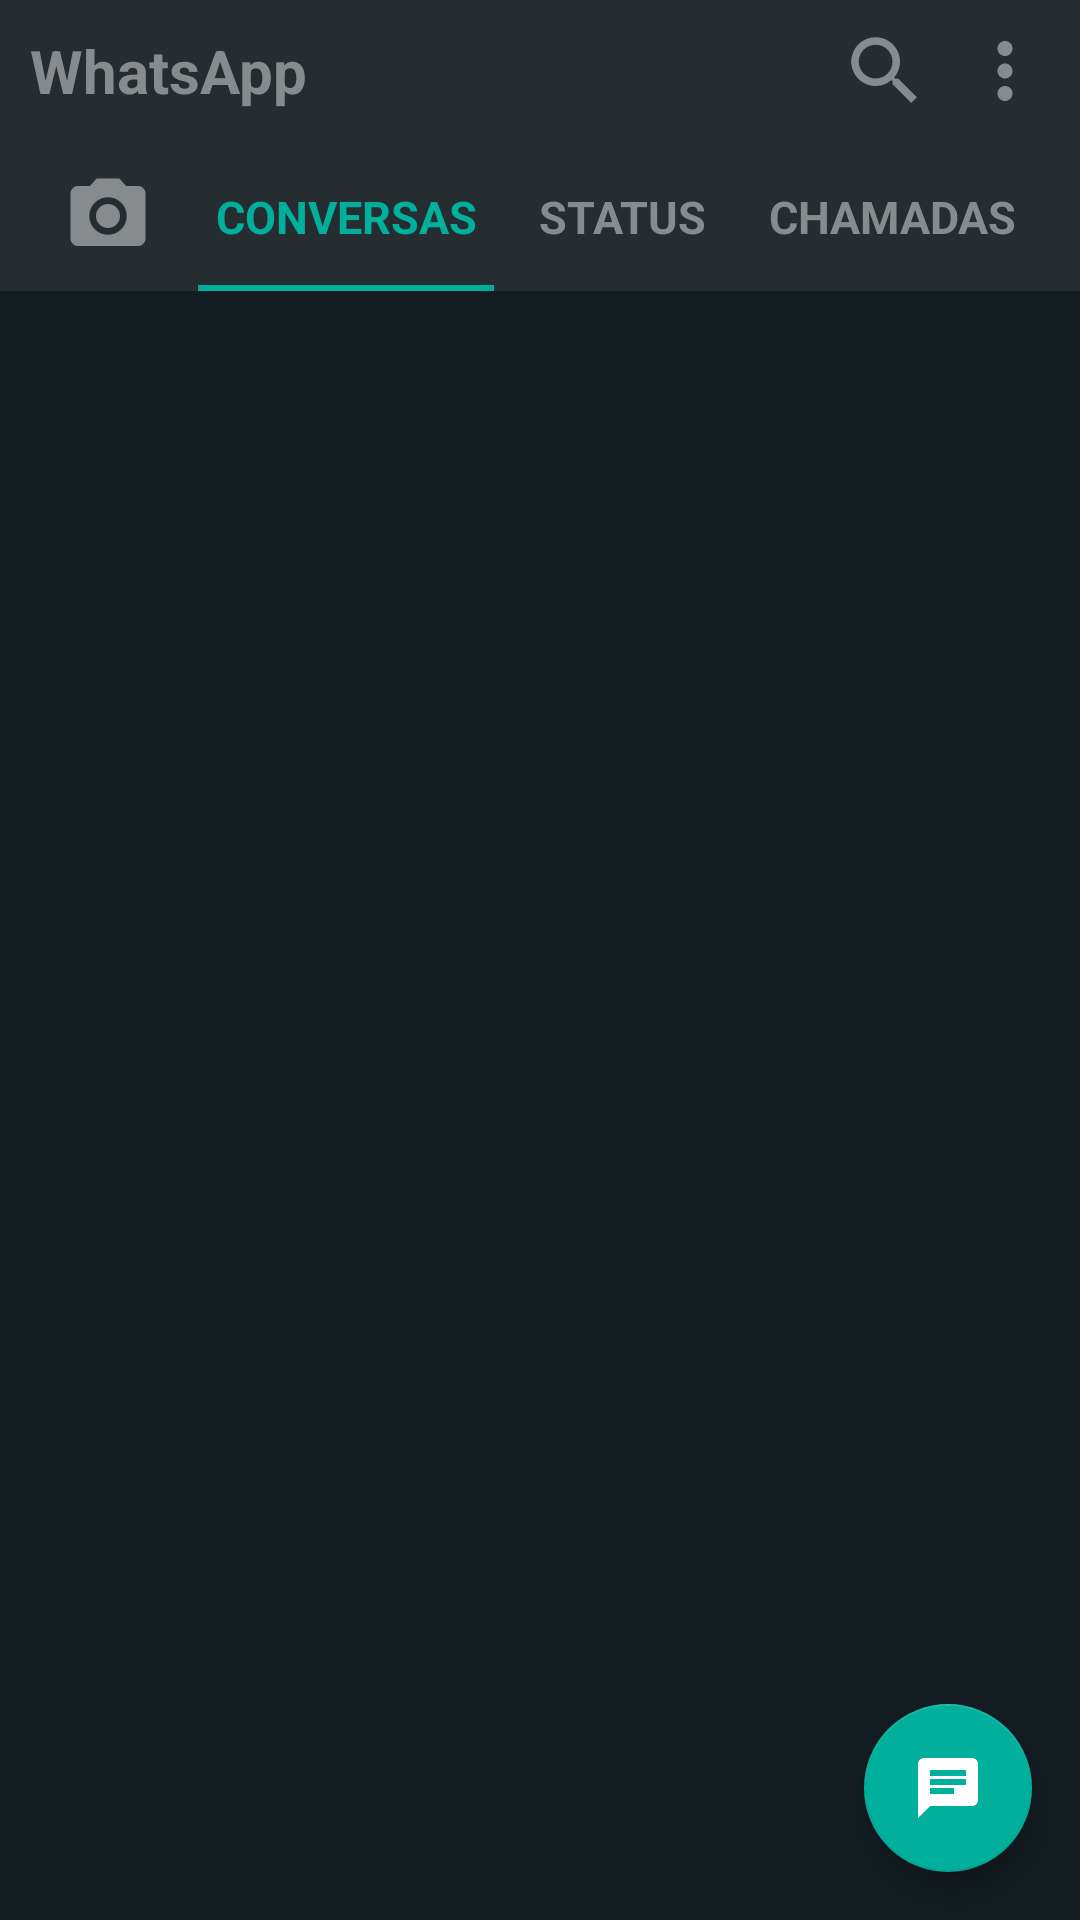

Point at icon controls on the screen. Image size 1080px x 1920px, points as [x,y].
Camera Icon: [108,212]
Conversation button: [948,1788]
more vert: [1005,71]
search: [884,70]
